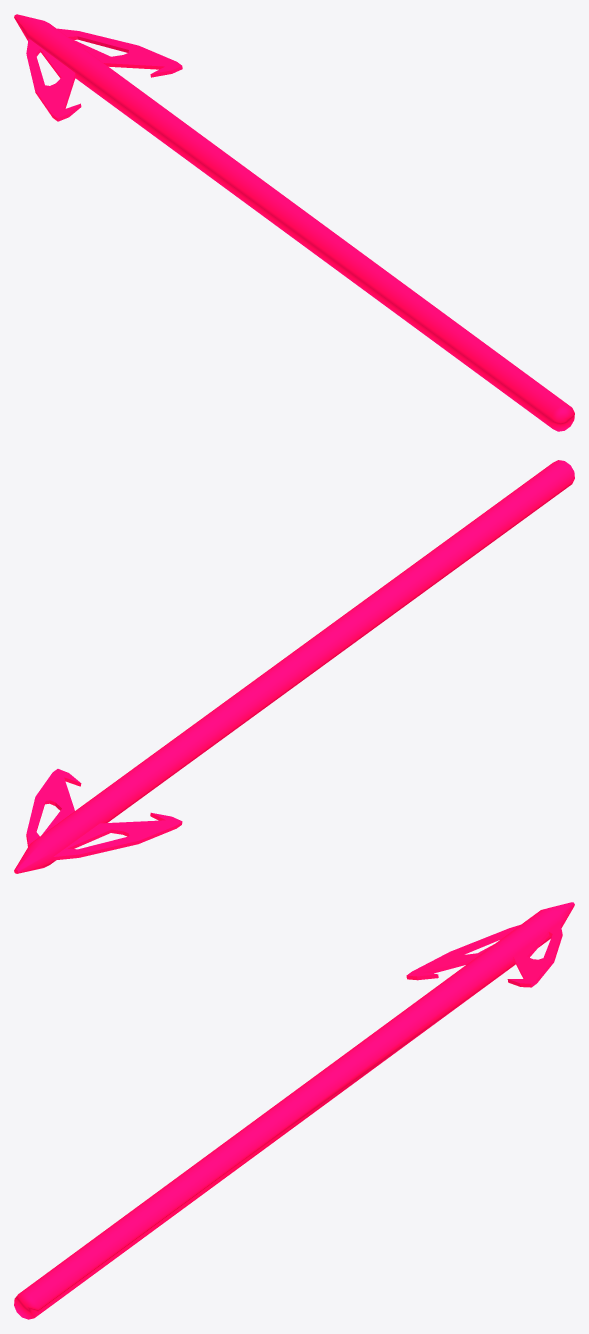
File: Harpoon.glb
The picture shows the model from 3 angles, top to bottom: view 1: azimuth 30°, elevation 25°; view 2: azimuth 150°, elevation 25°; view 3: azimuth 330°, elevation 25°; orthographic projection.
Parts seen in each view (by area): view 1: Harpoon; view 2: Harpoon; view 3: Harpoon.
Part boxes in pixels (x1,y1,x2,y2): Harpoon: (14, 14, 574, 431); Harpoon: (14, 460, 574, 873); Harpoon: (14, 902, 574, 1319).
Size of the model in its own units: 0.0676 by 0.0142 by 0.5109.
